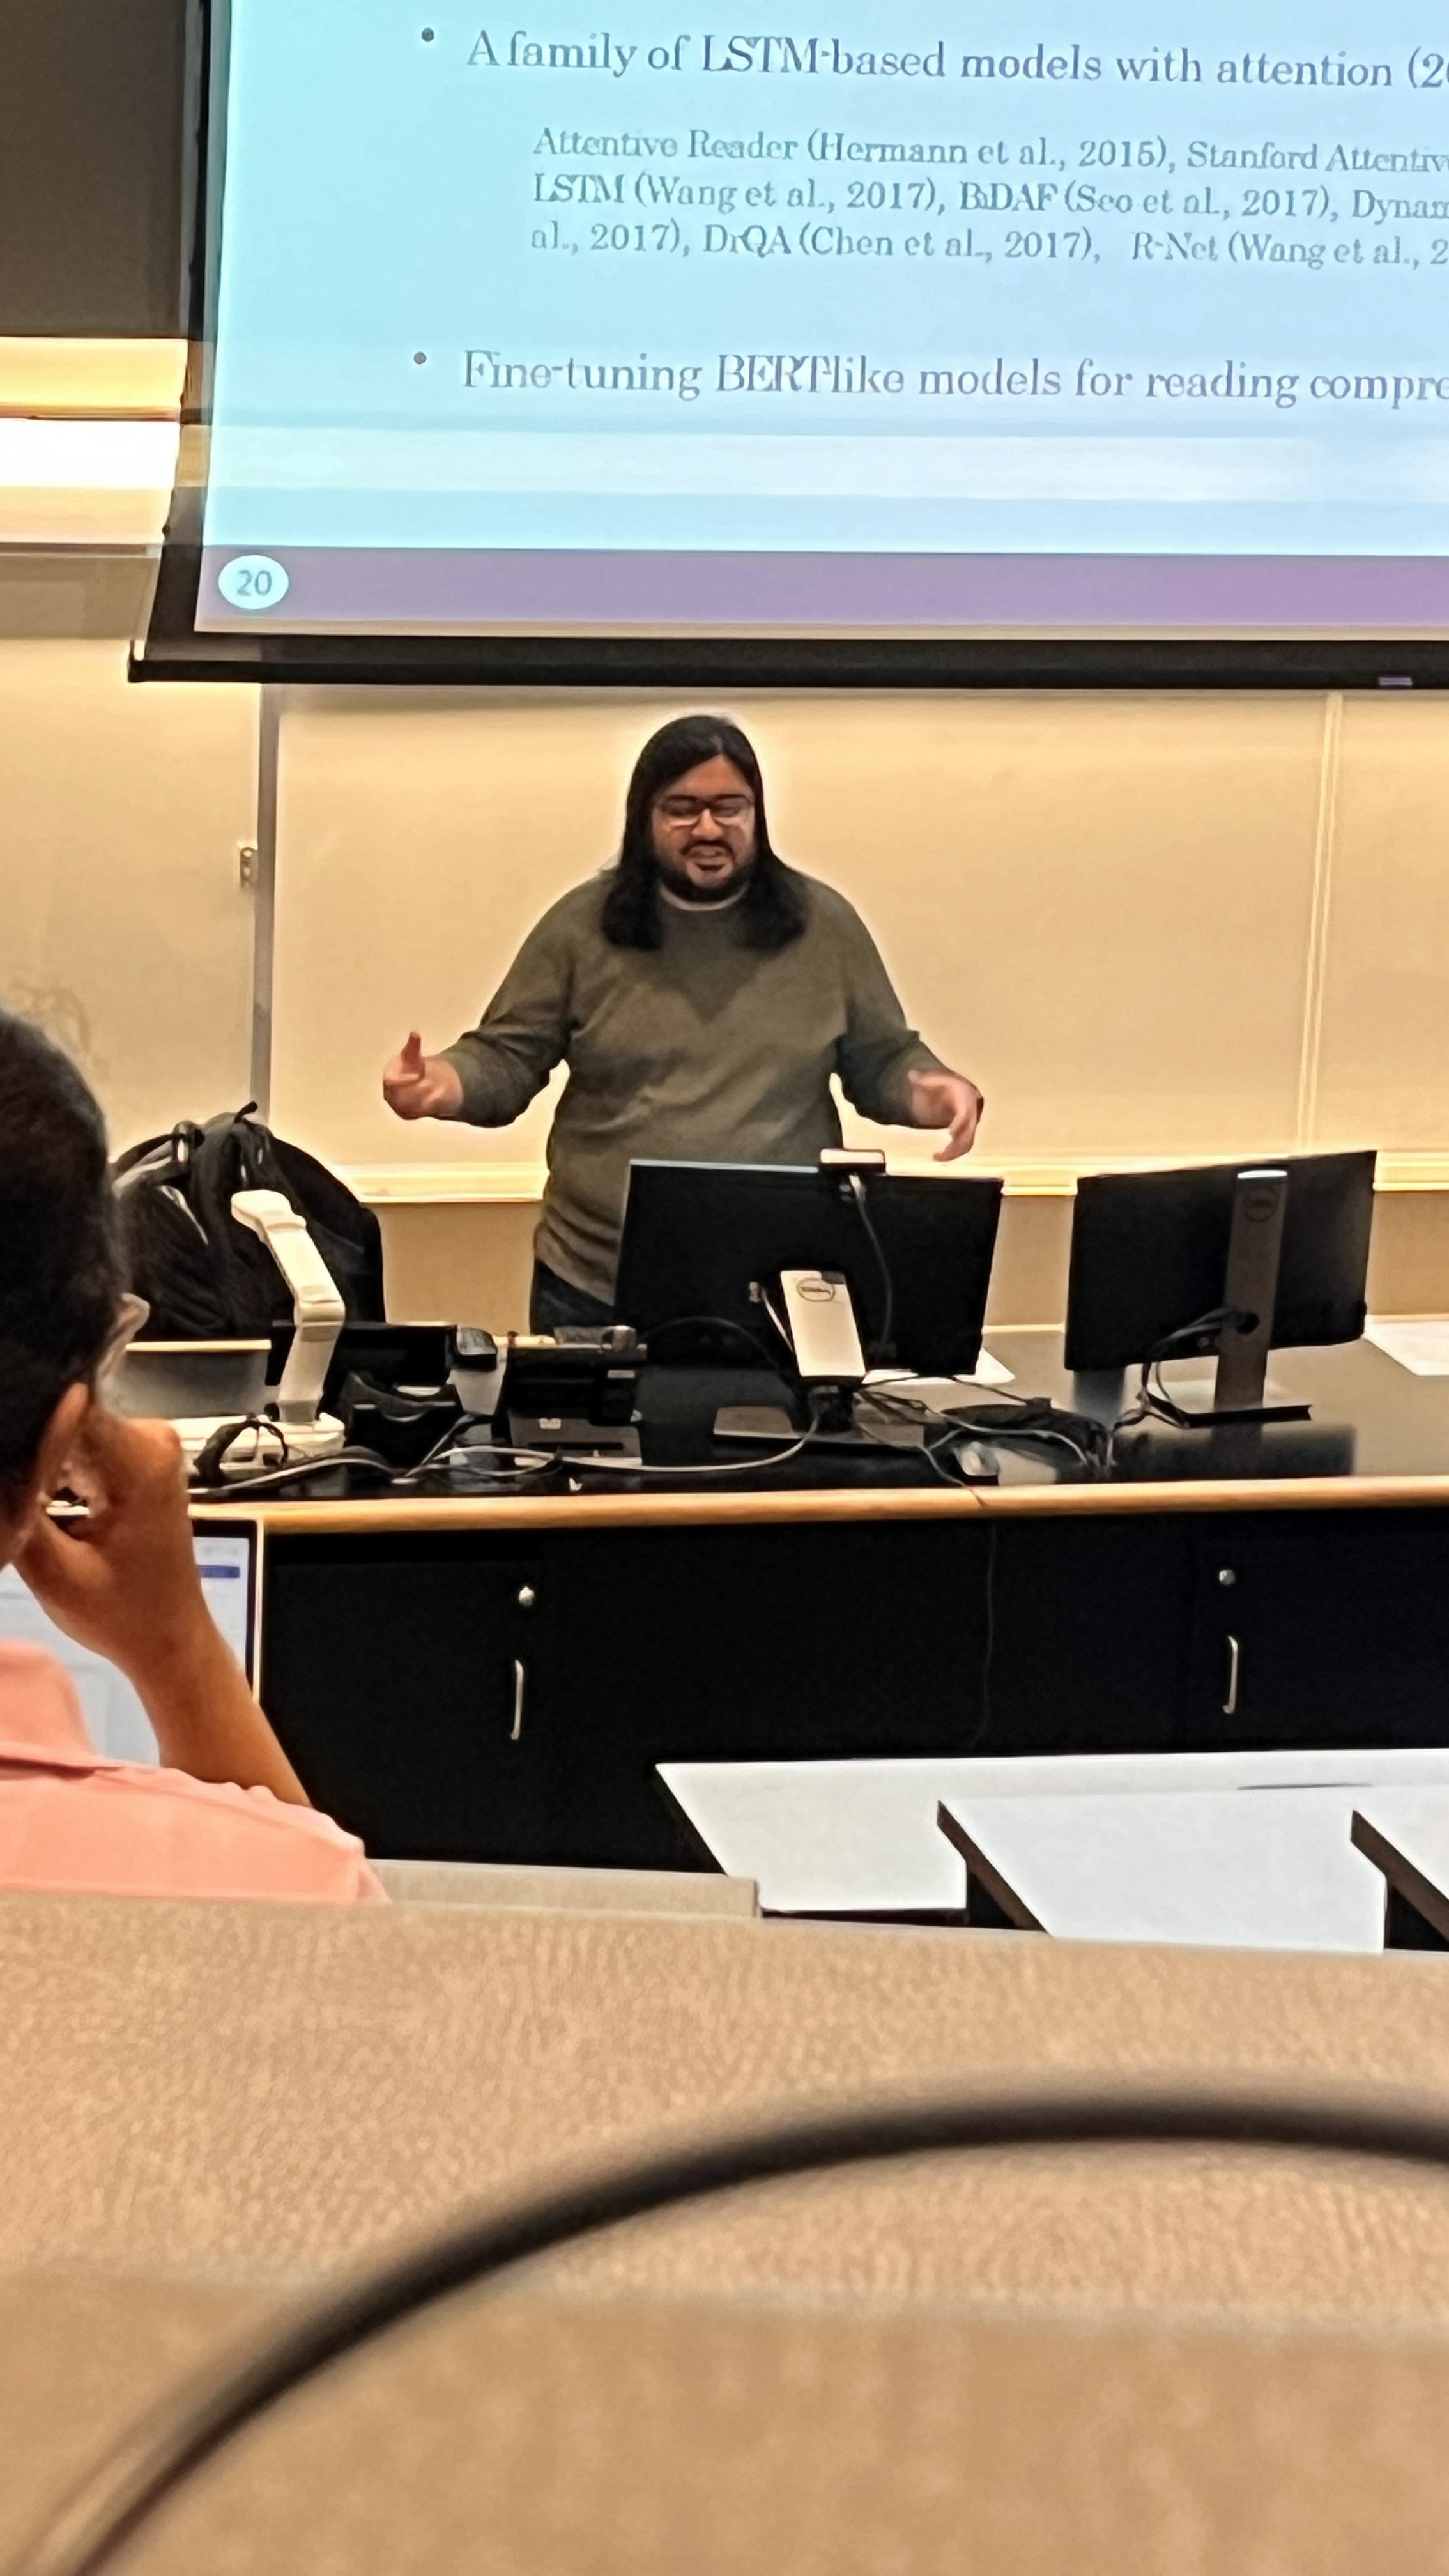Staff: (384, 598, 1008, 1491)
